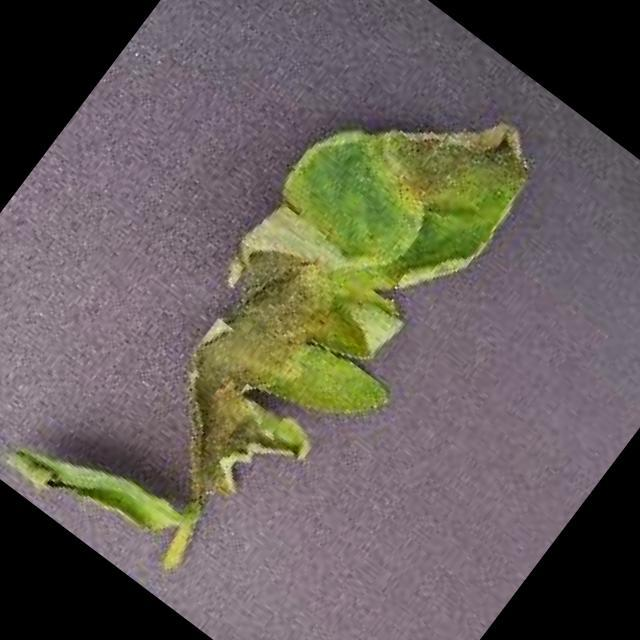Tomato late blight leaf: (99, 32, 570, 557), (0, 402, 183, 570)
